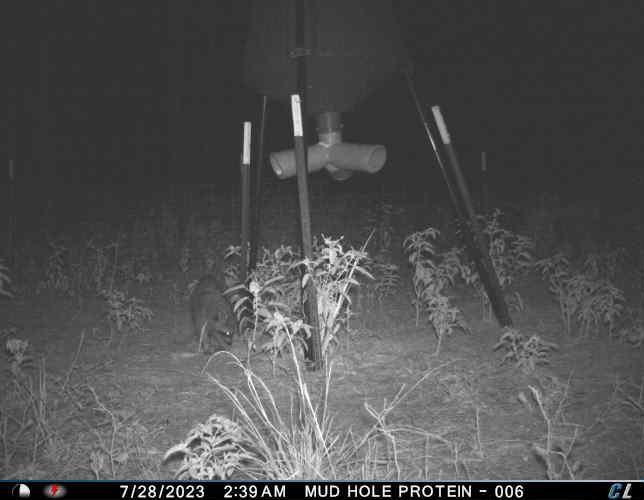Raccoon: (188, 272, 238, 354)
